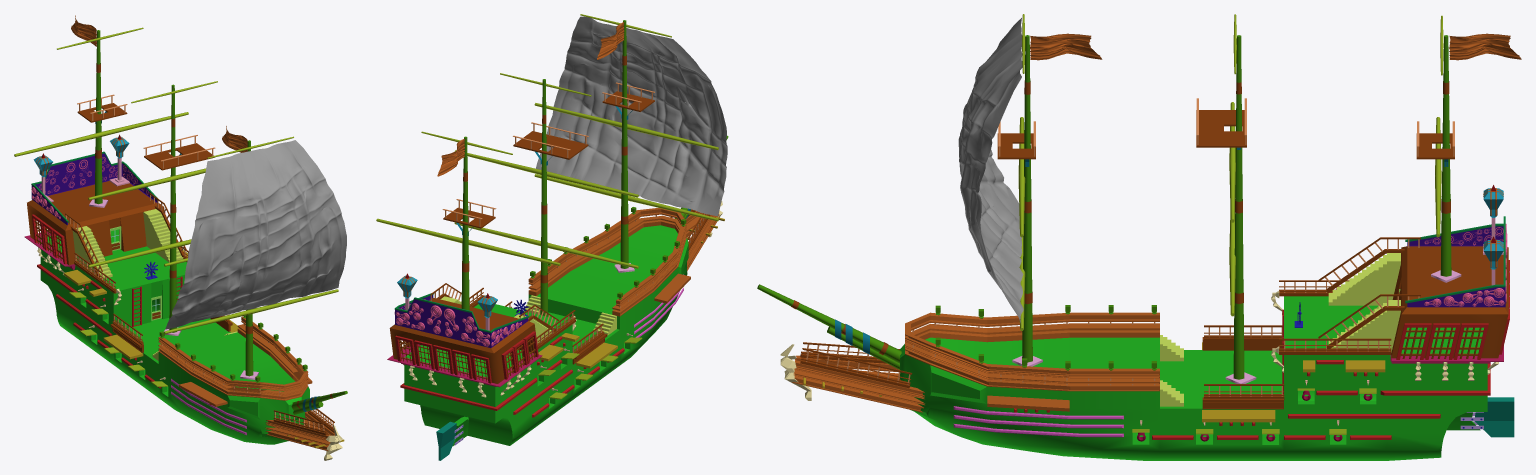
Rendered from pirateShip.FBX.
3 views of the same model, side by side, from view 1: azimuth 30°, elevation 25°; view 2: azimuth 150°, elevation 25°; view 3: azimuth 270°, elevation 25° (orthographic). The views are drawn at different scales.
Visible parts, largest first — view 1: Plane138, Plane001, Plane014, Plane064, Cylinder003, Plane033, Box068, Plane118, Box134, Cylinder023, Cylinder013, Plane128 (+16 smaller); view 2: Plane138, Plane001, Cylinder003, Plane014, Plane064, Plane033, Box032, Plane118, Box024, Box134, Plane089, Box005 (+16 smaller); view 3: Plane001, Plane138, Plane064, Plane014, Cylinder003, Plane118, Box068, Plane128, Plane033, Plane089, Plane120, Box083 (+19 smaller).
Boxes of the visible parts, x1=… form: Plane138: x1=165, y1=140, x2=346, y2=329; Plane001: x1=40, y1=229, x2=309, y2=444; Plane014: x1=27, y1=181, x2=164, y2=265; Plane064: x1=158, y1=316, x2=308, y2=400; Cylinder003: x1=94, y1=30, x2=253, y2=376; Plane033: x1=31, y1=153, x2=157, y2=224; Box068: x1=72, y1=209, x2=183, y2=278; Plane118: x1=158, y1=320, x2=308, y2=395; Box134: x1=144, y1=143, x2=214, y2=170; Cylinder023: x1=164, y1=289, x2=338, y2=333; Cylinder013: x1=14, y1=112, x2=188, y2=156; Plane128: x1=171, y1=378, x2=246, y2=435; Plane138: x1=536, y1=16, x2=727, y2=216; Plane001: x1=404, y1=225, x2=688, y2=446; Cylinder003: x1=461, y1=20, x2=628, y2=316; Plane014: x1=389, y1=297, x2=535, y2=383; Plane064: x1=528, y1=207, x2=686, y2=316; Plane033: x1=395, y1=295, x2=528, y2=347; Box032: x1=395, y1=331, x2=538, y2=383; Plane118: x1=528, y1=212, x2=686, y2=310; Box024: x1=398, y1=337, x2=535, y2=381; Box134: x1=513, y1=131, x2=588, y2=159; Plane089: x1=400, y1=336, x2=586, y2=414; Box005: x1=387, y1=344, x2=542, y2=387; Plane001: x1=900, y1=296, x2=1487, y2=460; Plane138: x1=958, y1=18, x2=1023, y2=324; Plane064: x1=905, y1=312, x2=1159, y2=391; Plane014: x1=1391, y1=246, x2=1508, y2=358; Cylinder003: x1=1022, y1=35, x2=1451, y2=379; Plane118: x1=905, y1=319, x2=1159, y2=383; Box068: x1=1328, y1=253, x2=1400, y2=352; Plane128: x1=953, y1=406, x2=1123, y2=437; Plane033: x1=1407, y1=226, x2=1505, y2=307; Plane089: x1=1014, y1=360, x2=1490, y2=425; Plane120: x1=792, y1=360, x2=924, y2=412; Box083: x1=1202, y1=337, x2=1283, y2=409.
Size of the model in its own units: 56.19 by 89.19 by 154.
